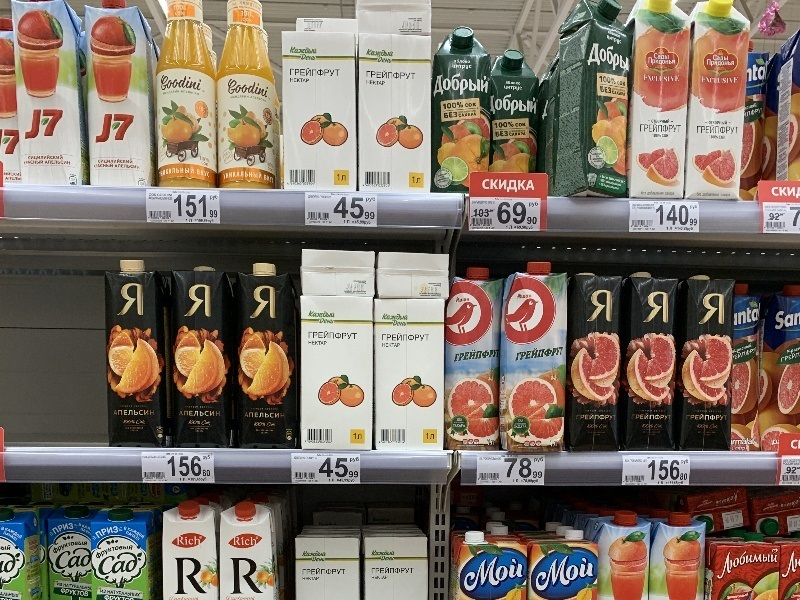juice: (76, 1, 163, 191), (98, 254, 180, 454), (226, 259, 307, 459), (559, 1, 639, 203), (165, 263, 242, 456), (502, 259, 572, 462), (560, 265, 631, 462), (628, 1, 696, 204), (685, 1, 747, 206), (444, 266, 508, 456), (620, 268, 684, 457), (429, 26, 494, 199), (676, 271, 736, 456)
